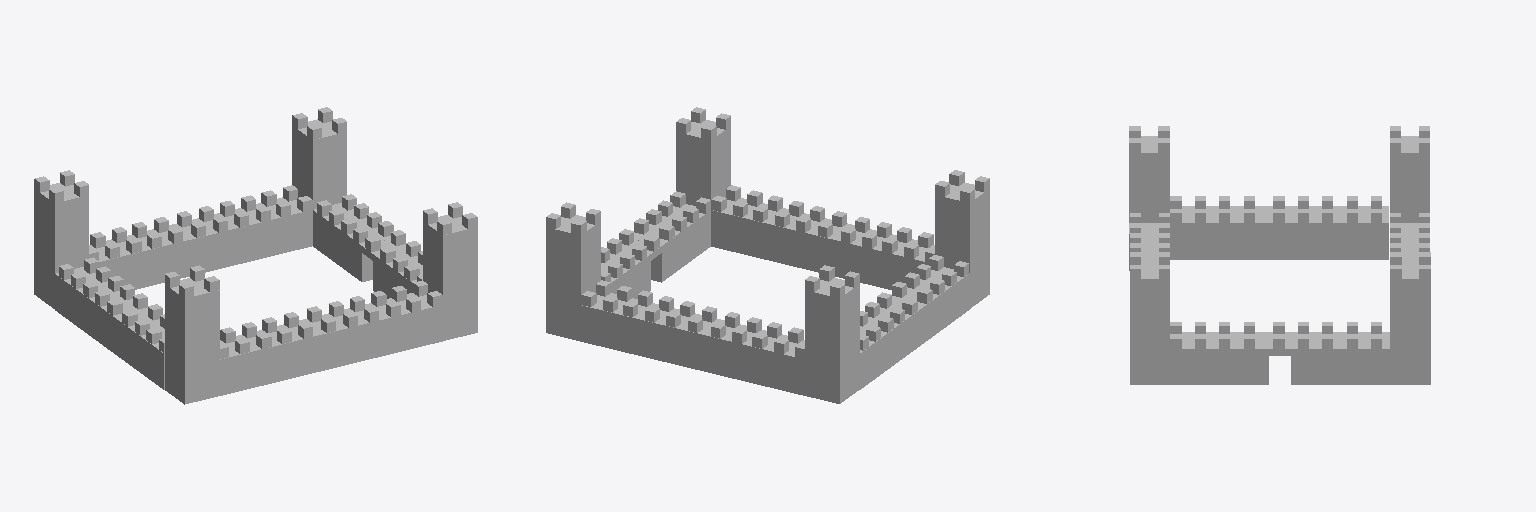
The model's file is castle.obj.
3 renders of one model, left to right at view 1: azimuth 30°, elevation 25°; view 2: azimuth 150°, elevation 25°; view 3: azimuth 270°, elevation 25°, orthographic.
Parts seen in each view (by area): view 1: Cube.098; view 2: Cube.098; view 3: Cube.098.
Boxes of the visible parts, x1=… form: Cube.098: x1=34, y1=107, x2=477, y2=404; Cube.098: x1=546, y1=107, x2=989, y2=403; Cube.098: x1=1129, y1=126, x2=1430, y2=384.
Size of the model in its own units: 10.43 by 3.96 by 9.27.